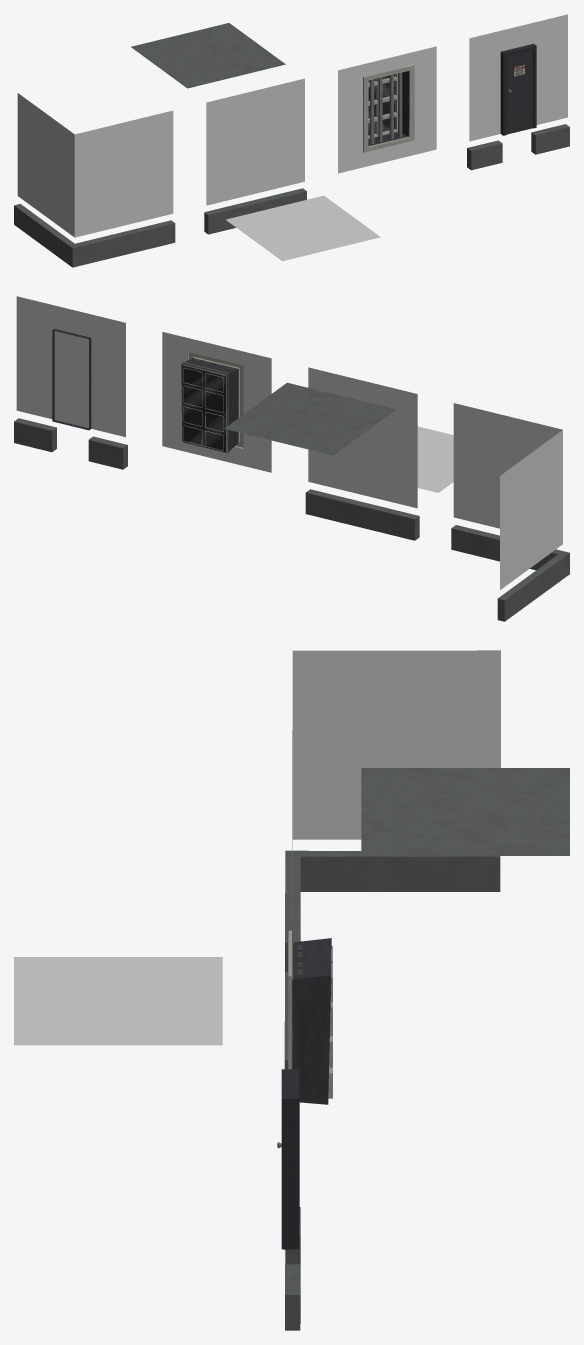
File: wall_parts.fbx
3 renders of one model, top to bottom at view 1: azimuth 30°, elevation 25°; view 2: azimuth 150°, elevation 25°; view 3: azimuth 270°, elevation 25°, orthographic. The views are drawn at different scales.
Parts seen in each view (by area): view 1: wall_cornor, wall_door, wall, wall_window, floor, roof, slab_cornor, slab_door, slab; view 2: wall_cornor, wall_door, wall_window, wall, roof, slab_cornor, slab, floor, slab_door; view 3: wall_cornor, floor, roof, slab_cornor, wall_window, wall_door, slab_door.
Boxes of the visible parts, x1,y1,x2,y2 form: wall_cornor: (17, 93, 173, 237); wall_door: (469, 14, 567, 141); wall: (206, 78, 304, 205); wall_window: (338, 46, 436, 173); floor: (226, 195, 380, 261); roof: (131, 23, 285, 88); slab_cornor: (14, 204, 175, 267); slab_door: (467, 124, 569, 170); slab: (204, 188, 306, 234); wall_cornor: (453, 403, 562, 589); wall_door: (16, 296, 125, 437); wall_window: (162, 332, 271, 472); wall: (308, 367, 417, 508); roof: (224, 382, 395, 455); slab_cornor: (451, 525, 569, 621); slab: (305, 489, 419, 540); floor: (417, 426, 453, 492); slab_door: (14, 418, 127, 469); wall_cornor: (292, 650, 500, 918); floor: (14, 957, 222, 1045); roof: (361, 768, 569, 855); slab_cornor: (285, 850, 500, 971); wall_window: (288, 930, 332, 1104); wall_door: (277, 1069, 299, 1249); slab_door: (285, 1207, 300, 1330).
Size of the model in its own units: 1513 by 380 by 800.
